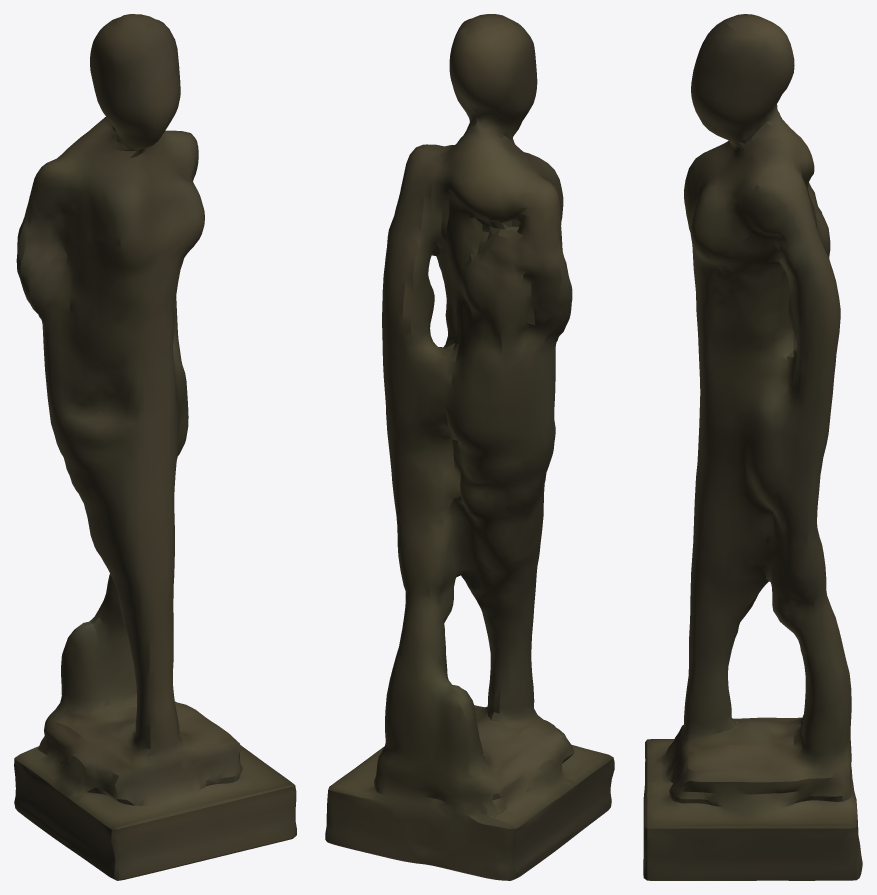
Rendered from GenStatue_0.fbx.
3 renders of one model, left to right at view 1: azimuth 30°, elevation 25°; view 2: azimuth 150°, elevation 25°; view 3: azimuth 270°, elevation 25°, orthographic.
Parts seen in each view (by area): view 1: example_mesh_2; view 2: example_mesh_2; view 3: example_mesh_2.
Boxes of the visible parts, x1,y1,x2,y2 form: example_mesh_2: (14, 14, 296, 880); example_mesh_2: (325, 14, 614, 880); example_mesh_2: (643, 14, 862, 880).
Size of the model in its own units: 54.15 by 198 by 48.69.
